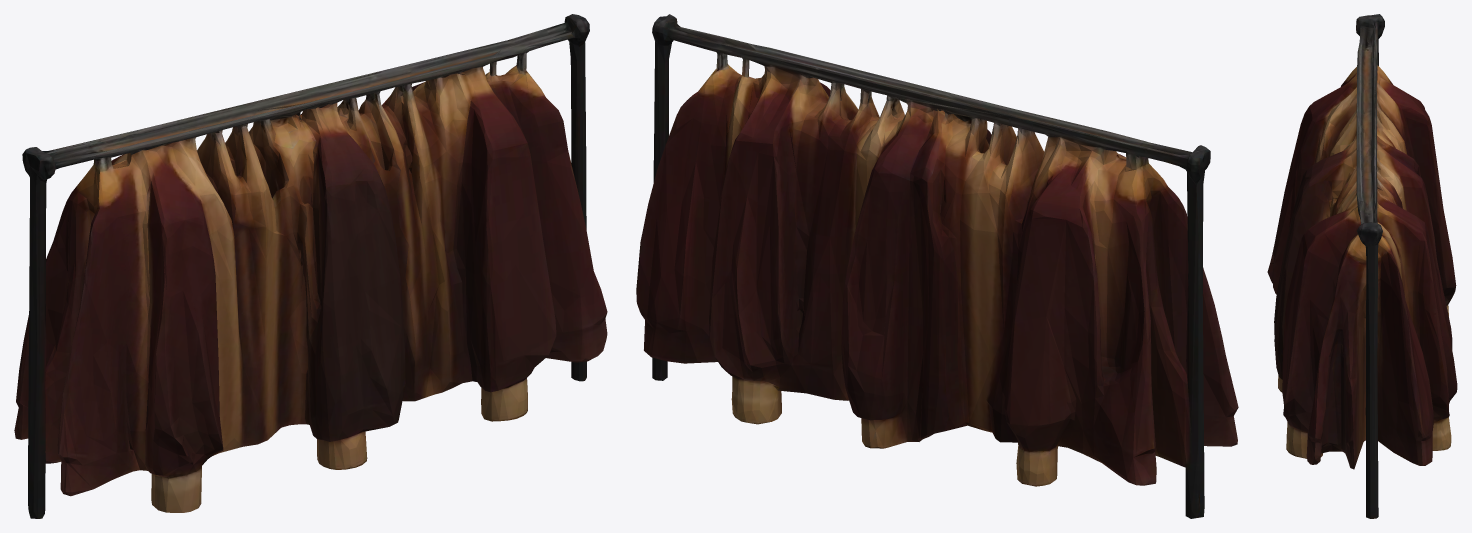
The picture shows the model from 3 angles, left to right: view 1: azimuth 30°, elevation 25°; view 2: azimuth 150°, elevation 25°; view 3: azimuth 270°, elevation 25°; orthographic projection. The views are drawn at different scales.
Parts seen in each view (by area): view 1: geometry_0; view 2: geometry_0; view 3: geometry_0.
Boxes of the visible parts, box(x1,y1,x2,y2) form: geometry_0: box(14, 14, 607, 518); geometry_0: box(636, 14, 1238, 518); geometry_0: box(1267, 14, 1457, 518).
Size of the model in its own units: 0.9996 by 0.6336 by 0.3676.
Materials: 1 (1 with a texture image).
